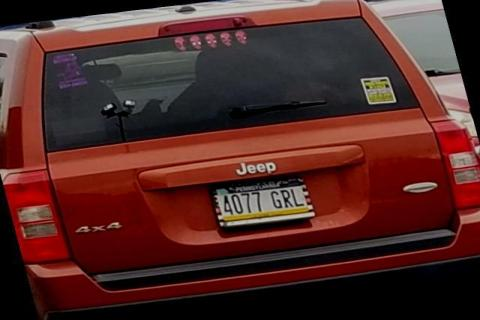LicensePlate: (206, 175, 314, 228)
